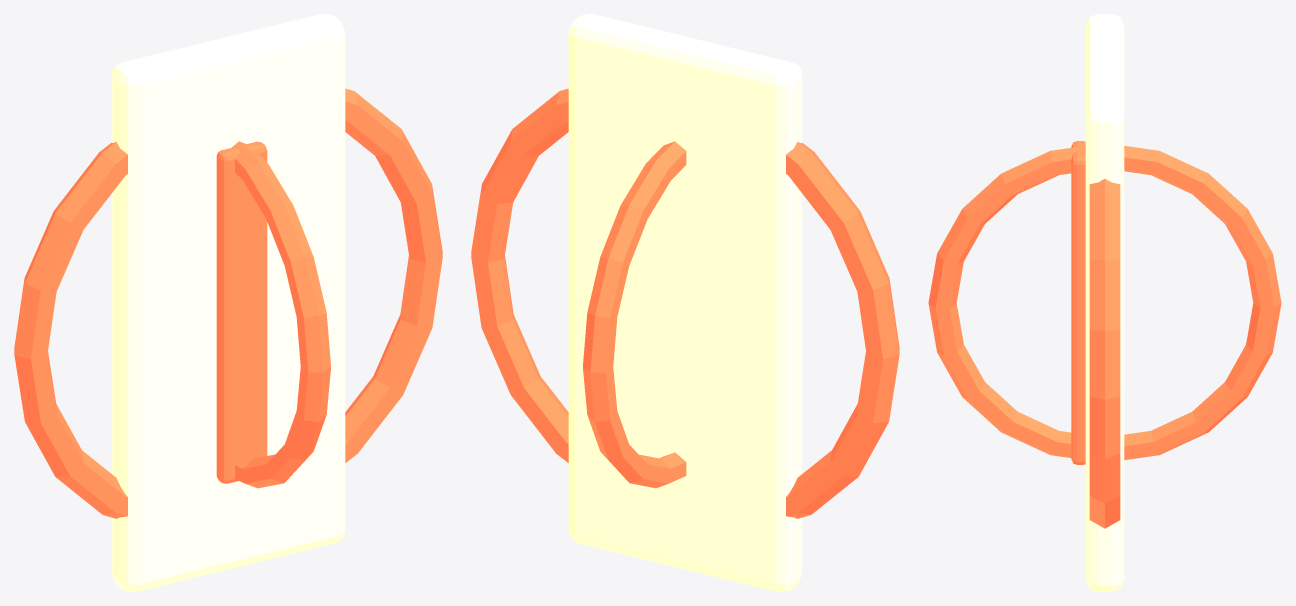
Rendered from vfx_enemy_talisman_projectile_v0_7.glb.
3 renders of one model, left to right at view 1: azimuth 30°, elevation 25°; view 2: azimuth 150°, elevation 25°; view 3: azimuth 270°, elevation 25°, orthographic. The views are drawn at different scales.
Visible parts, largest first — view 1: presentation_talisman_projectile_body, presentation_talisman_projectile_ring_a, presentation_talisman_projectile_mark, presentation_talisman_projectile_ring_b; view 2: presentation_talisman_projectile_body, presentation_talisman_projectile_ring_a, presentation_talisman_projectile_ring_b; view 3: presentation_talisman_projectile_ring_b, presentation_talisman_projectile_body, presentation_talisman_projectile_ring_a, presentation_talisman_projectile_mark.
Boxes of the visible parts, x1,y1,x2,y2 form: presentation_talisman_projectile_body: (111, 14, 345, 591); presentation_talisman_projectile_ring_a: (14, 88, 442, 518); presentation_talisman_projectile_mark: (216, 141, 267, 483); presentation_talisman_projectile_ring_b: (231, 141, 330, 488); presentation_talisman_projectile_body: (568, 14, 802, 591); presentation_talisman_projectile_ring_a: (471, 88, 899, 518); presentation_talisman_projectile_ring_b: (583, 141, 686, 488); presentation_talisman_projectile_ring_b: (928, 146, 1281, 459); presentation_talisman_projectile_body: (1085, 14, 1124, 591); presentation_talisman_projectile_ring_a: (1089, 179, 1120, 528); presentation_talisman_projectile_mark: (1071, 141, 1085, 464).
Size of the model in its own units: 0.65 by 0.76 by 0.5.
